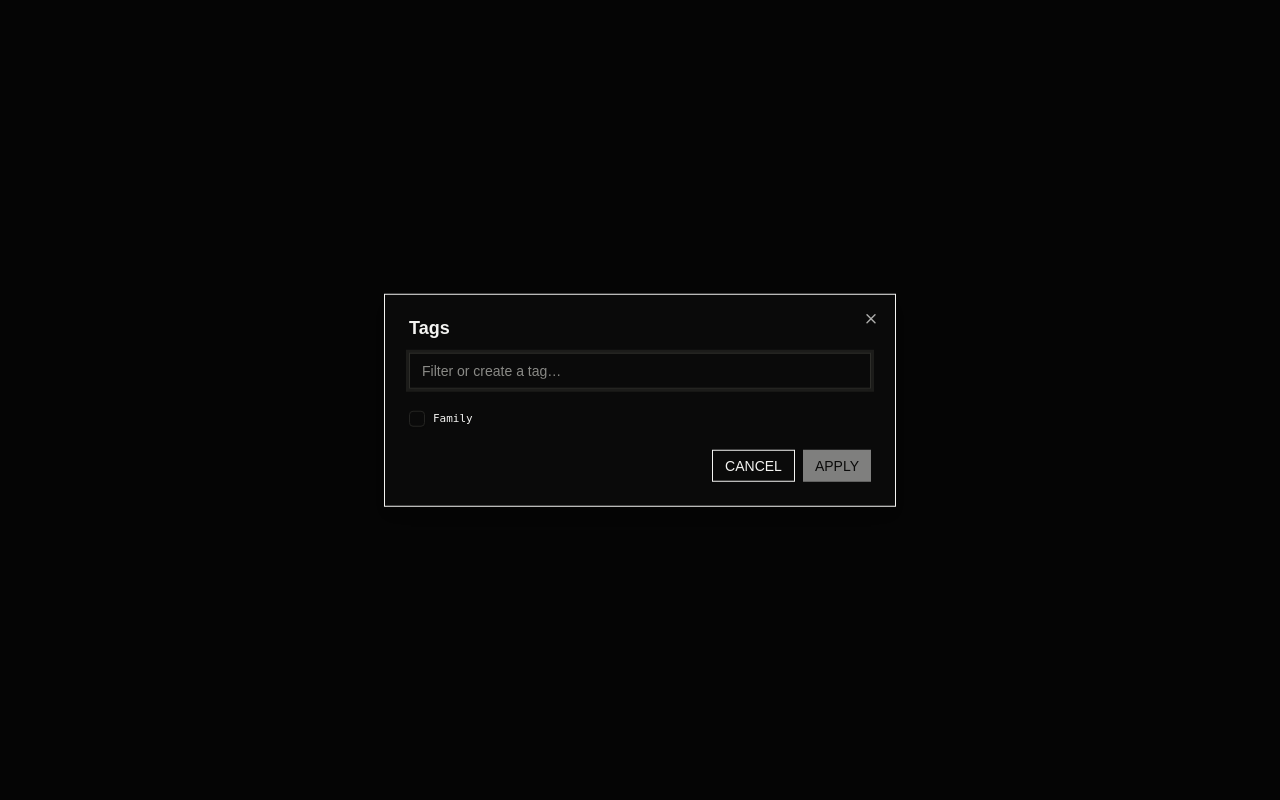
offers CREATE when the filter text has no exact match
Check: the text "Family" is shown, box [433,411,473,427]
Step 1. Type "Sunset" into the field with placeholder "Filter or create a tag…" → x=640, y=371, box [409,353,871,389]
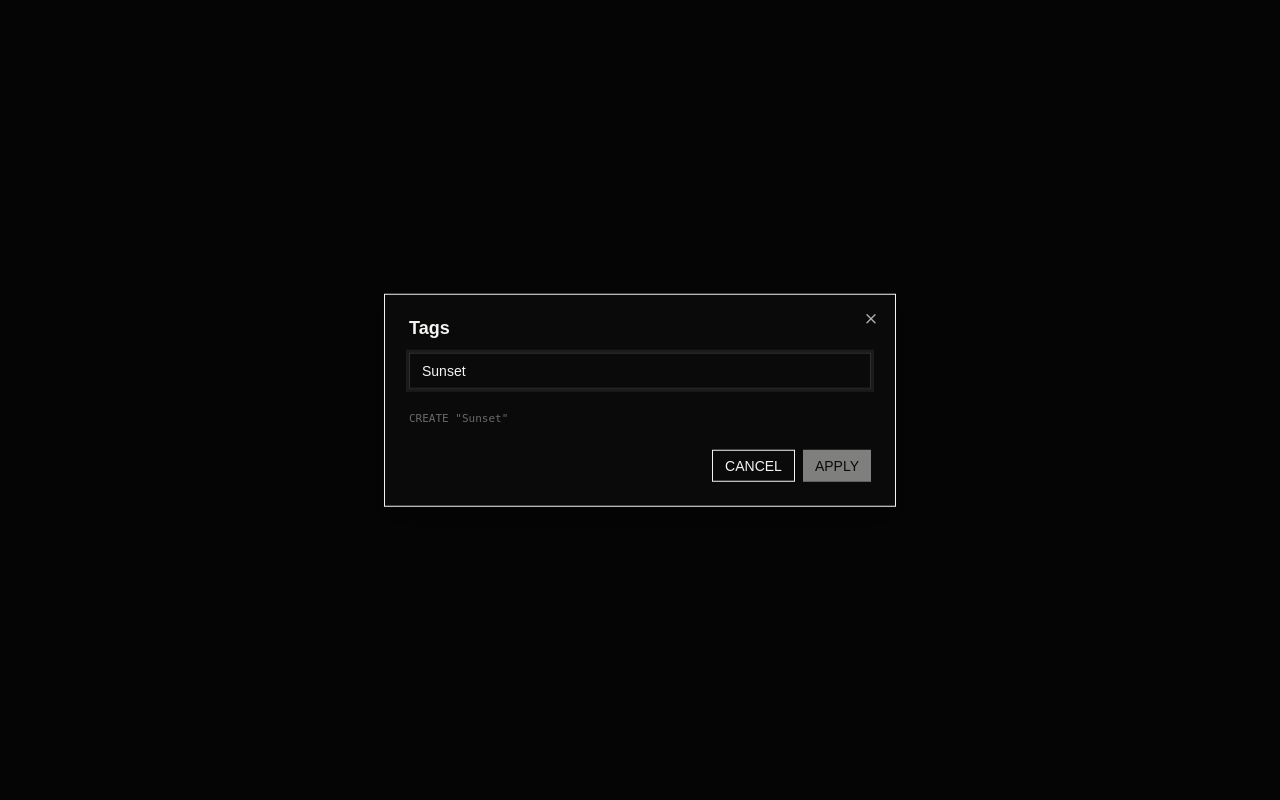
Check: the button "CREATE \"Sunset\"" is shown, box [409,405,871,433]
